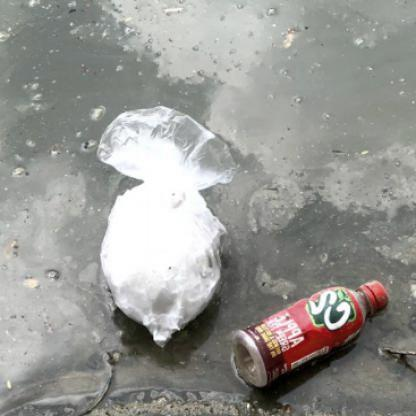Plastic: (231, 278, 392, 391)
Trash: (94, 102, 236, 352)
